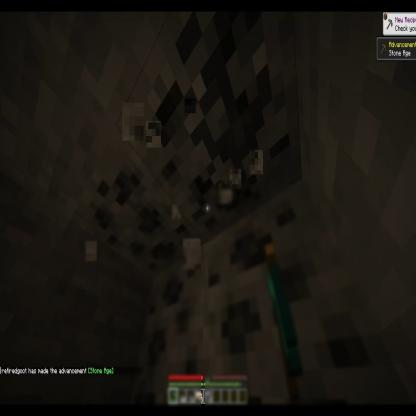coal ore: (205, 185, 381, 416), (84, 151, 208, 289), (135, 246, 201, 407)
